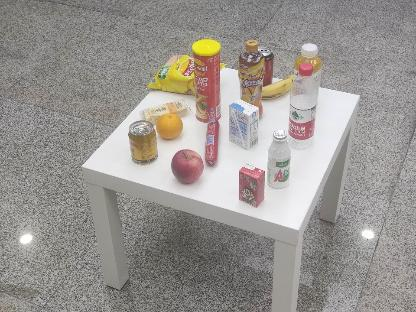Can: (130, 121, 158, 167), (256, 48, 275, 86)
Others: (190, 40, 224, 122), (226, 96, 262, 152), (233, 161, 268, 211)
Plastic Bottle: (287, 60, 323, 146)
